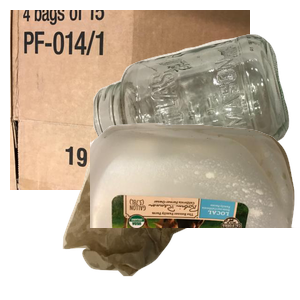cardboard: (10, 10, 250, 190)
glass: (91, 32, 300, 189)
plastic: (90, 120, 300, 300)
trash: (60, 142, 300, 300)
